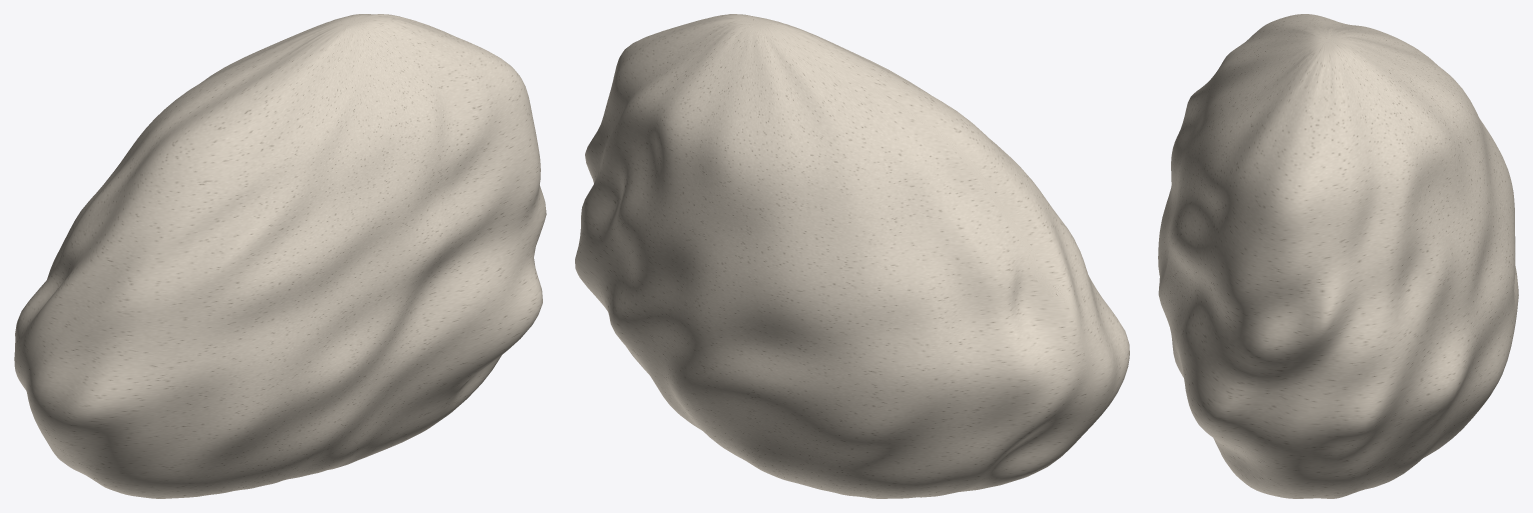
The model's file is G24_brown_landscape_rock.glb.
The picture shows the model from 3 angles, left to right: view 1: azimuth 30°, elevation 25°; view 2: azimuth 150°, elevation 25°; view 3: azimuth 270°, elevation 25°; orthographic projection. The views are drawn at different scales.
Visible parts, largest first — view 1: item / Shared warm ivory fine granular stone; view 2: item / Shared warm ivory fine granular stone; view 3: item / Shared warm ivory fine granular stone.
Part boxes in pixels (<box>): item / Shared warm ivory fine granular stone: <box>14,14,546,498</box>; item / Shared warm ivory fine granular stone: <box>575,14,1129,498</box>; item / Shared warm ivory fine granular stone: <box>1158,14,1518,498</box>.
Bounding box in the file's own units: 0.8352 × 0.65 × 0.4698.
Materials: 1 (1 with a texture image).
